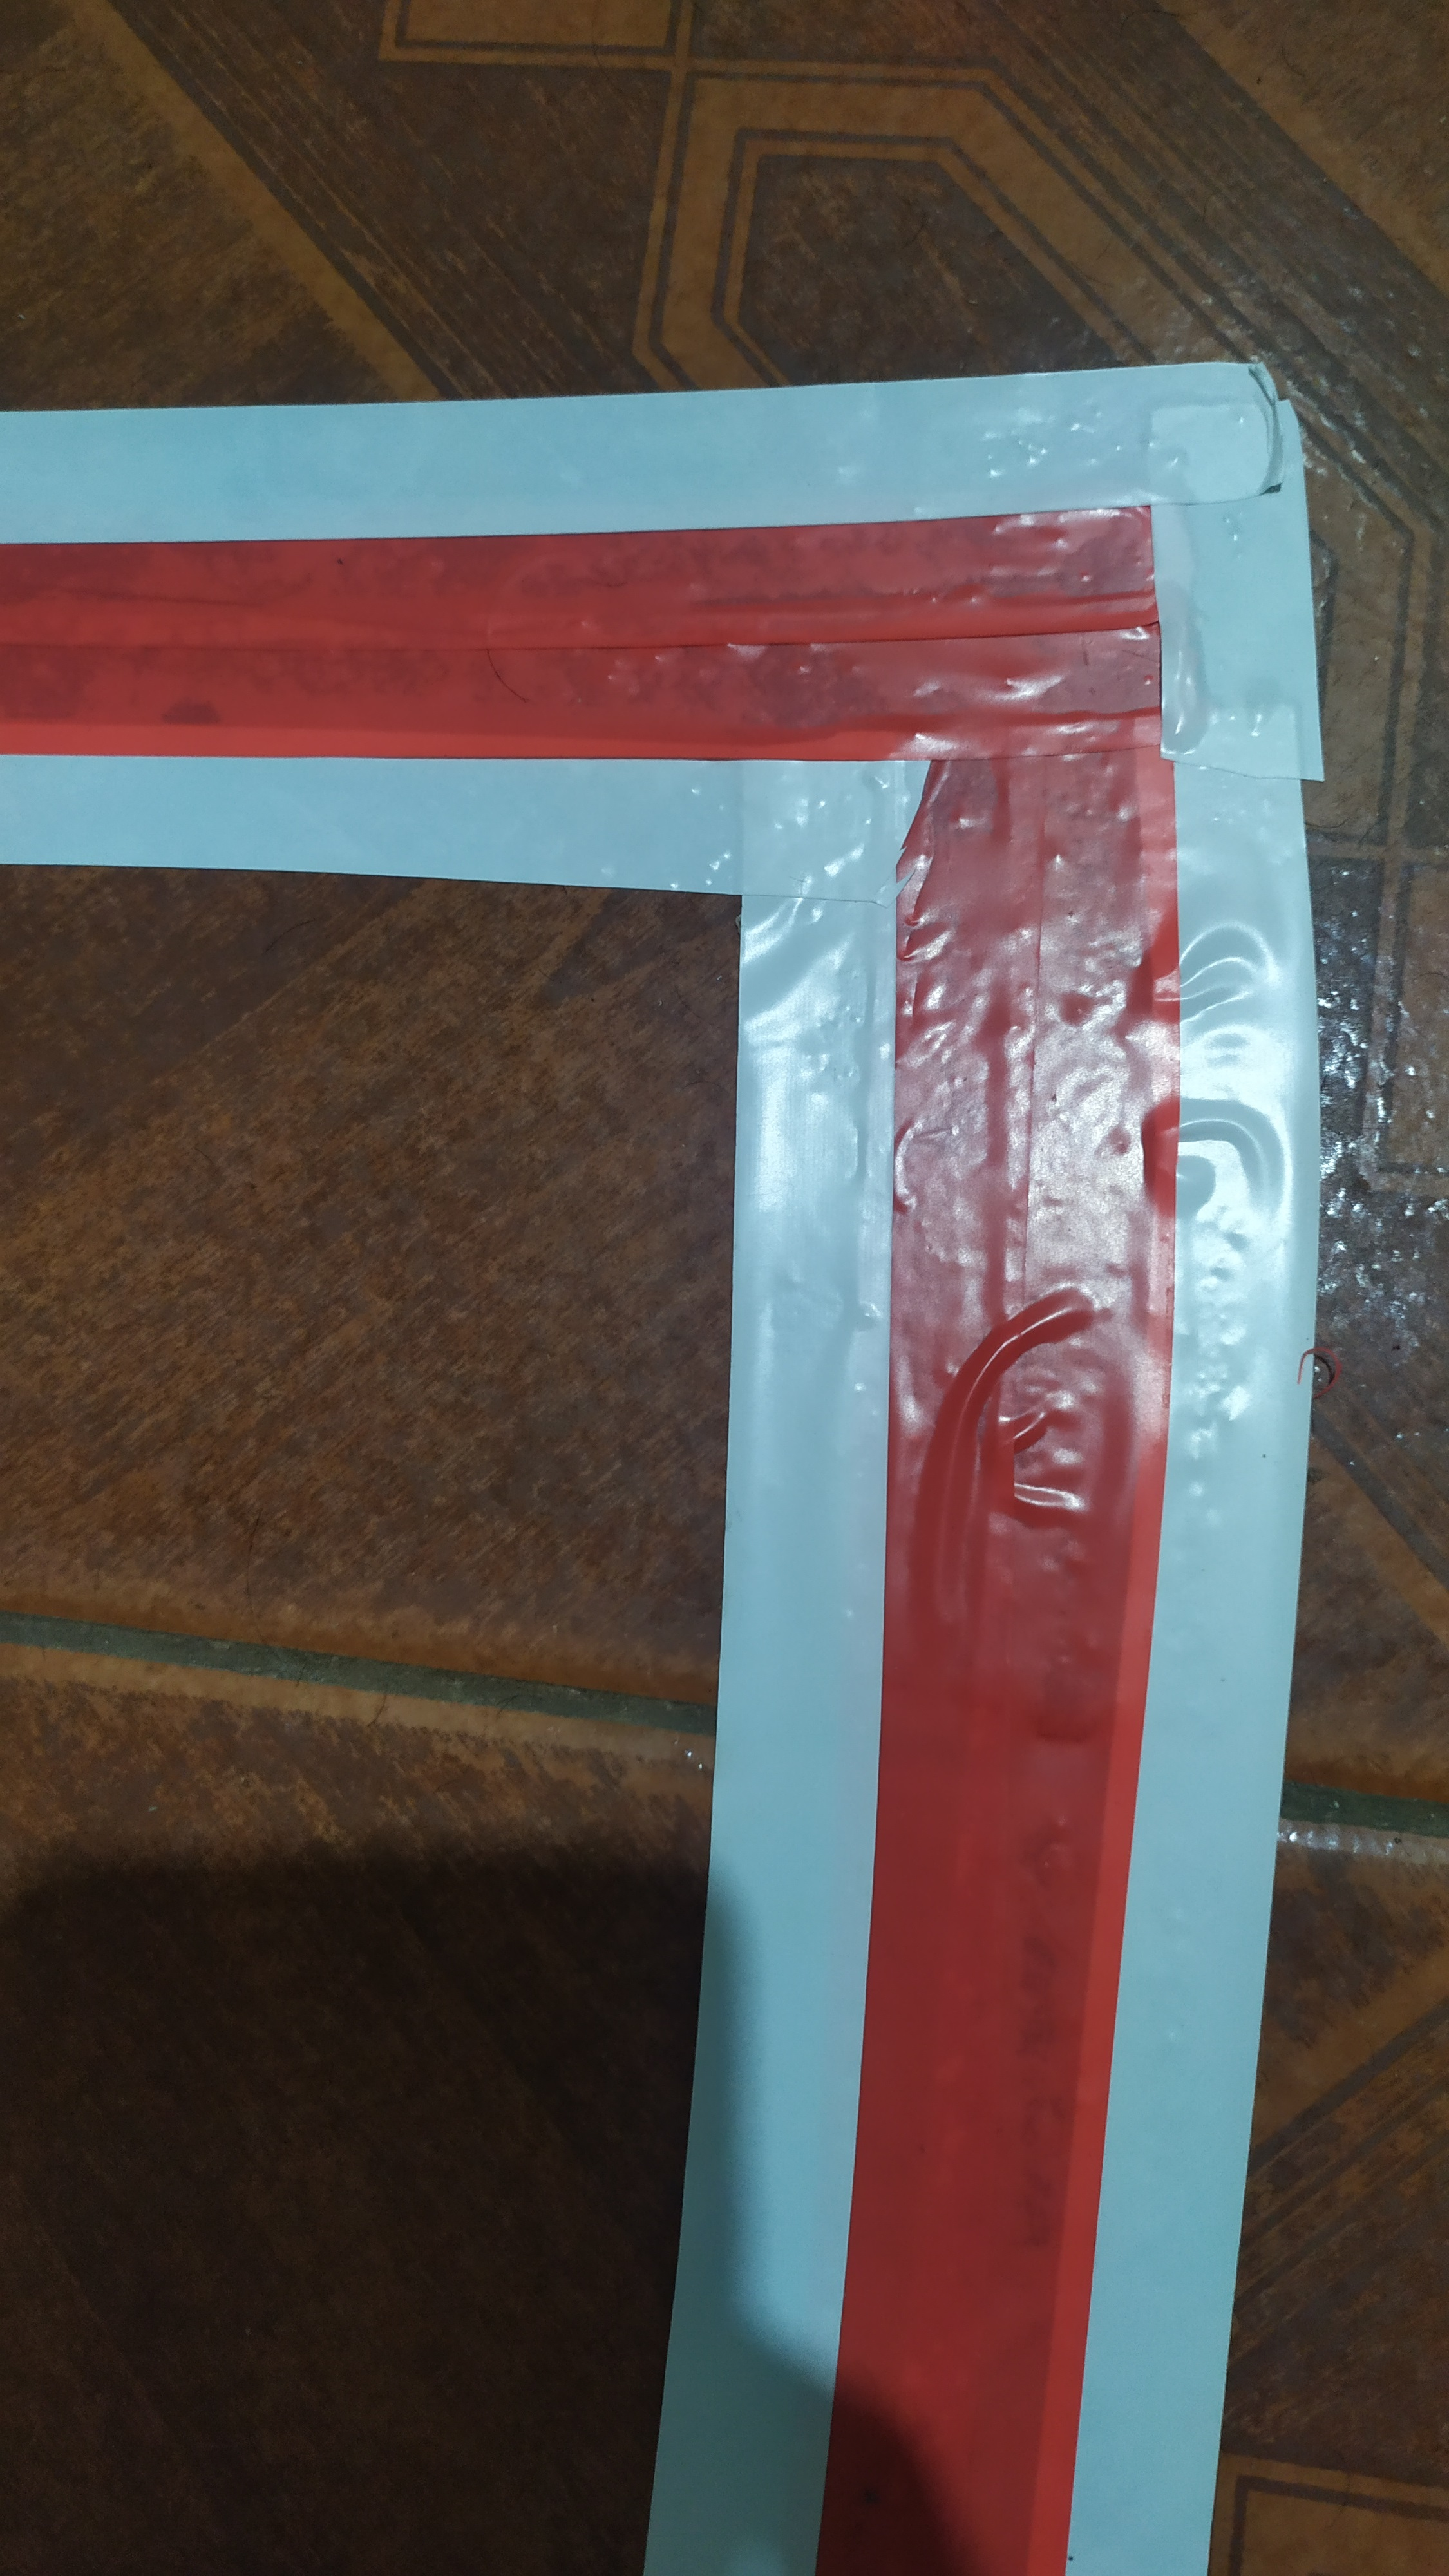faixa_esquerda: (23, 322, 1288, 2576)
